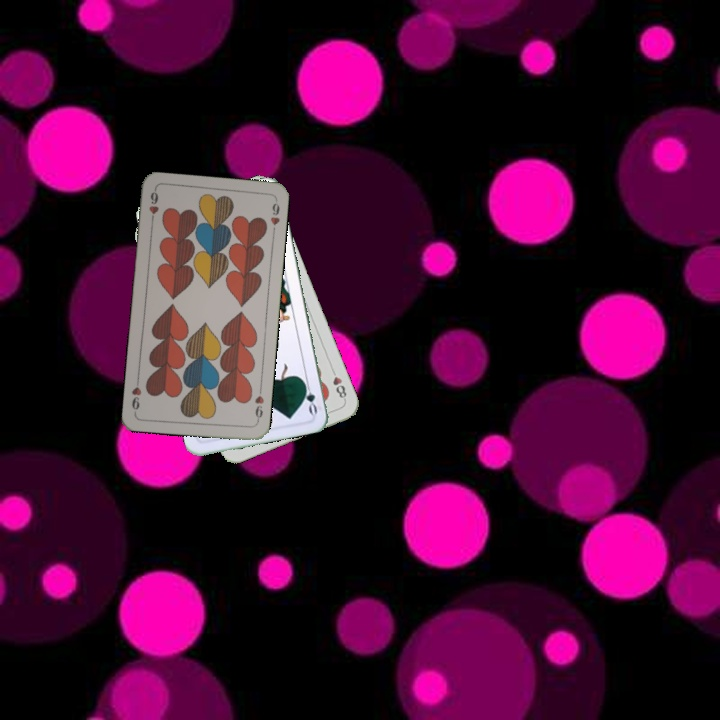GO: (299, 376, 320, 417)
H8: (327, 364, 349, 403)
H9: (251, 385, 267, 425), (145, 187, 161, 227)
